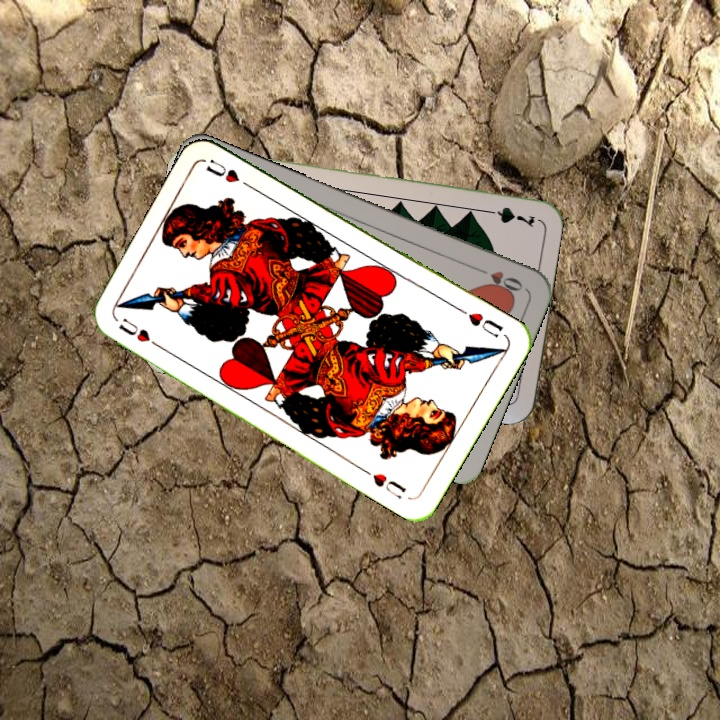G7: (479, 202, 538, 230)
HO: (471, 263, 526, 296)
HU: (454, 304, 506, 340), (114, 314, 153, 345)
